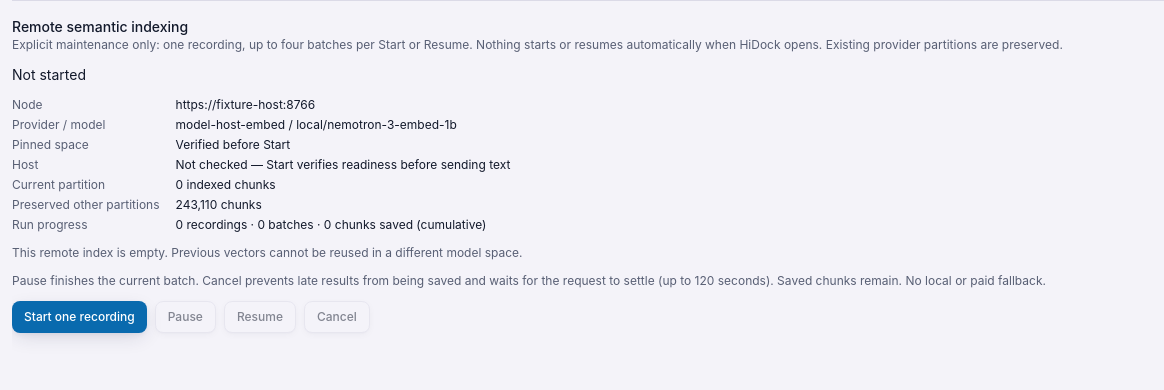
it: shows host refusal without claiming work started
The width and height of the screenshot is (1164, 390).
Check: the text "Not started" is shown, box [12,66,86,83]
Click the button "Start one recording".
click(79, 317)  # box [12,301,147,333]
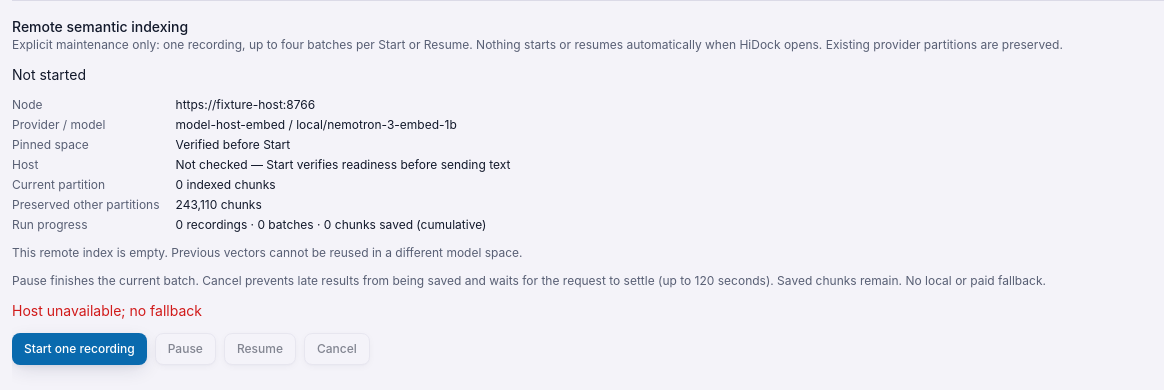
Check: the message "Host unavailable; no fallback" is shown, box [12,302,202,319]
